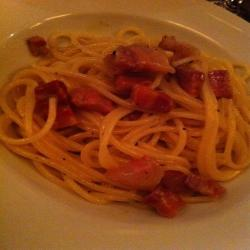bolonese_pasta: (4, 19, 246, 220)
